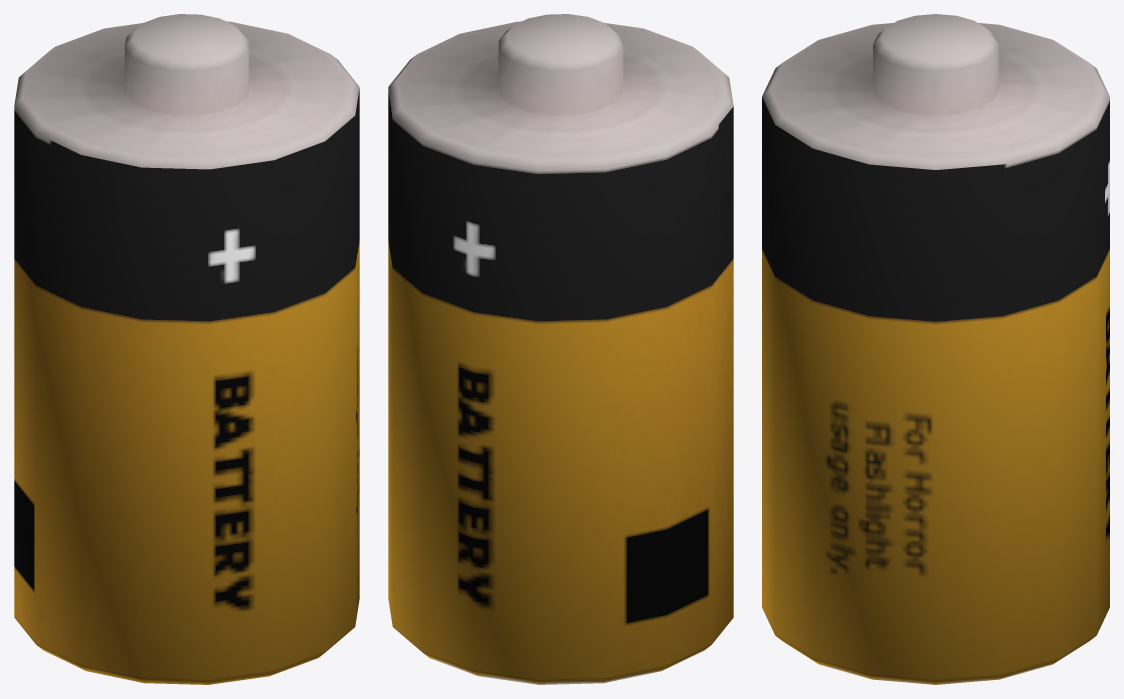
The model's file is modPickup_Battery.fbx.
3 views of the same model, side by side, from view 1: azimuth 30°, elevation 25°; view 2: azimuth 150°, elevation 25°; view 3: azimuth 270°, elevation 25° (orthographic).
Parts seen in each view (by area): view 1: modBattery; view 2: modBattery; view 3: modBattery.
Boxes of the visible parts, x1,y1,x2,y2 form: modBattery: [14, 14, 359, 684]; modBattery: [388, 14, 733, 684]; modBattery: [762, 14, 1109, 684].
Bounding box in the file's own units: 0.024 × 0.044 × 0.024.
Materials: 1 (1 with a texture image).
